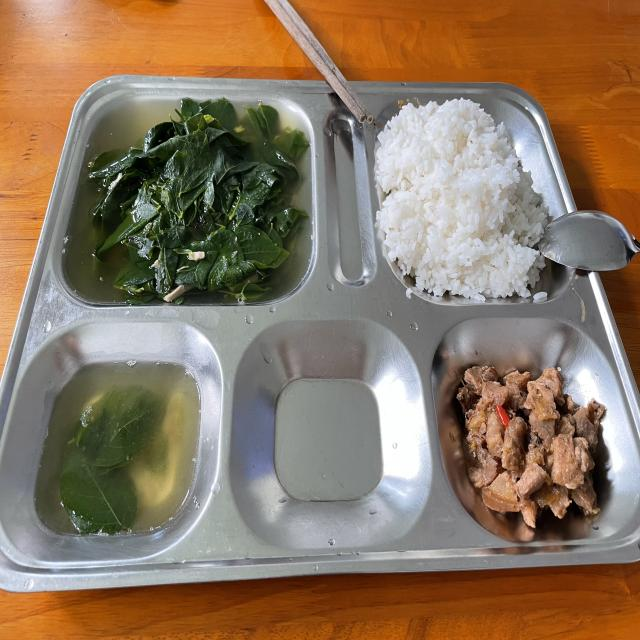thit_kho: (459, 361, 617, 520)
